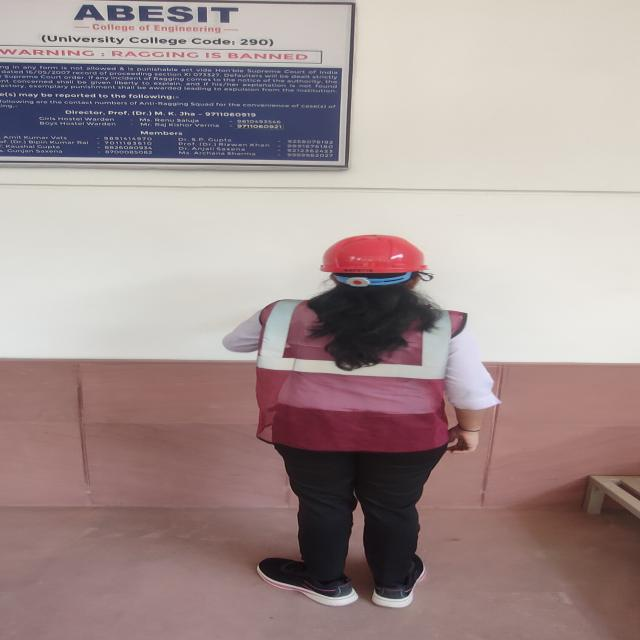safe: (255, 234, 498, 606)
